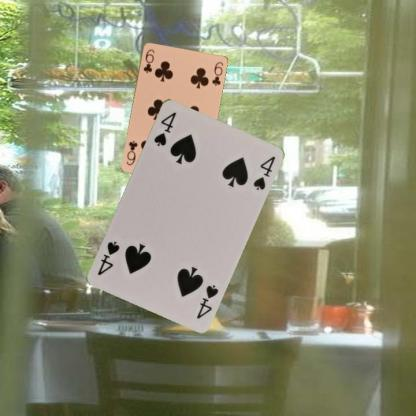4s: (150, 109, 178, 147), (194, 281, 220, 320)
6c: (140, 46, 156, 74)
